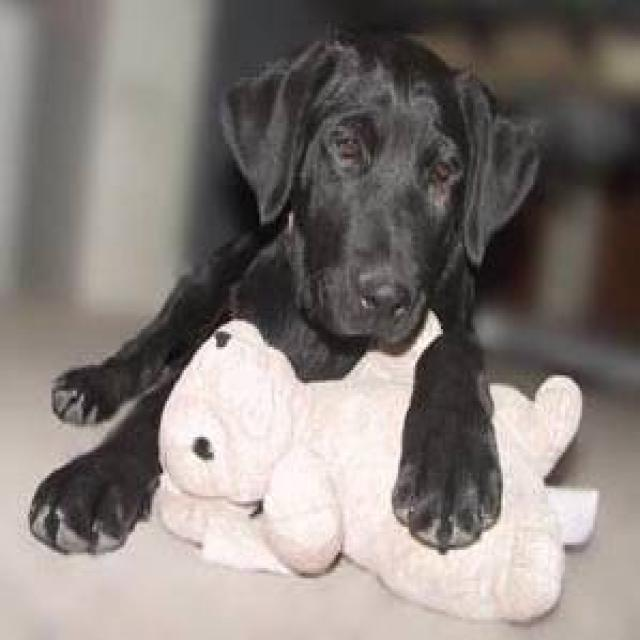dog: (26, 23, 544, 563)
